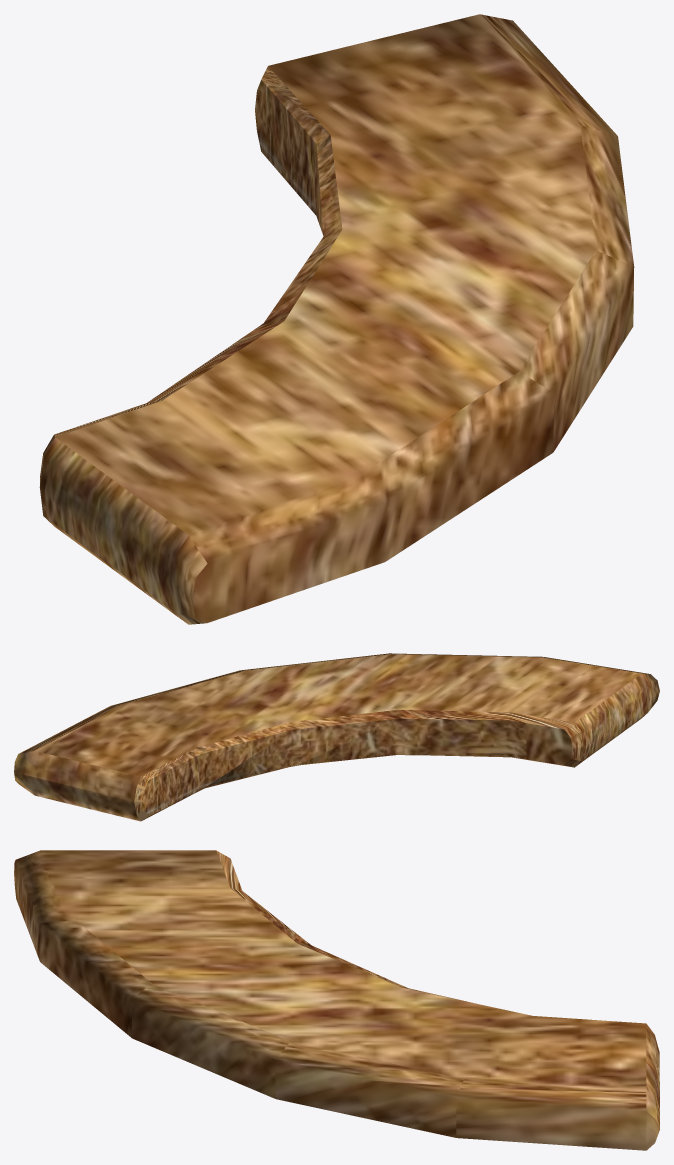
Rendered from Plat_roccia05.FBX.
3 views of the same model, one above another, from view 1: azimuth 30°, elevation 25°; view 2: azimuth 150°, elevation 25°; view 3: azimuth 270°, elevation 25° (orthographic). The views are drawn at different scales.
Parts seen in each view (by area): view 1: Plat_004; view 2: Plat_004; view 3: Plat_004.
Part boxes in pixels (box(x1,y1,x2,y2)): Plat_004: box(39, 14, 634, 624); Plat_004: box(14, 653, 659, 821); Plat_004: box(14, 850, 659, 1150).
Size of the model in its own units: 377 by 40.29 by 400.
1 material, 1 textured.
